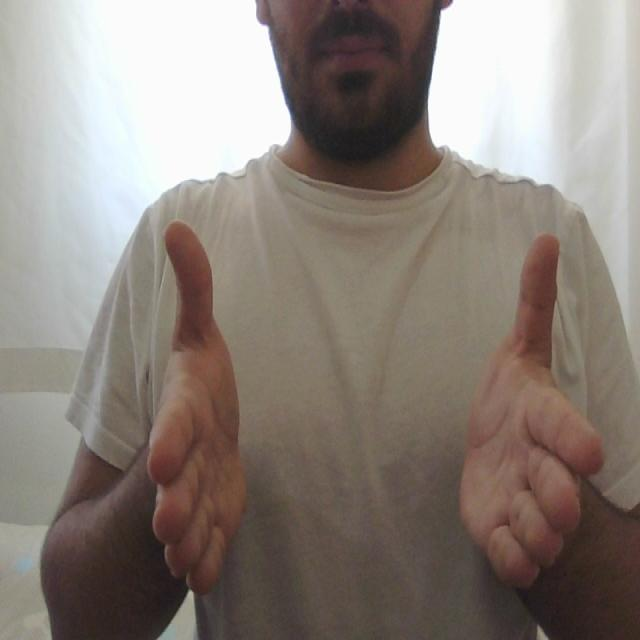Nasil: (143, 212, 605, 608)
